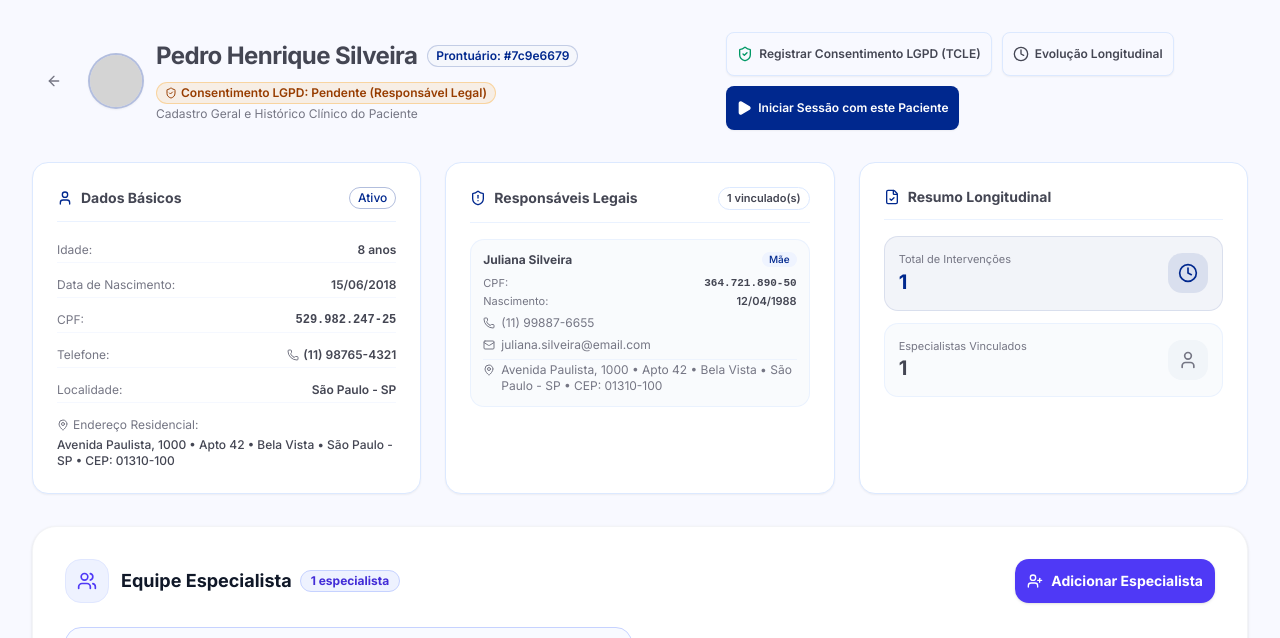
PerfilPacientePage — Gestão de Equipe Multidisciplinar (RF06, RF18, RN04) › 5. deve desabilitar o botão de desvincular quando restar apenas 1 especialista e bloquear início de sessão concorrente (409 Conflict)
Click the button "Iniciar Sessão com este Paciente" at (842, 108), box [726,86,958,130]
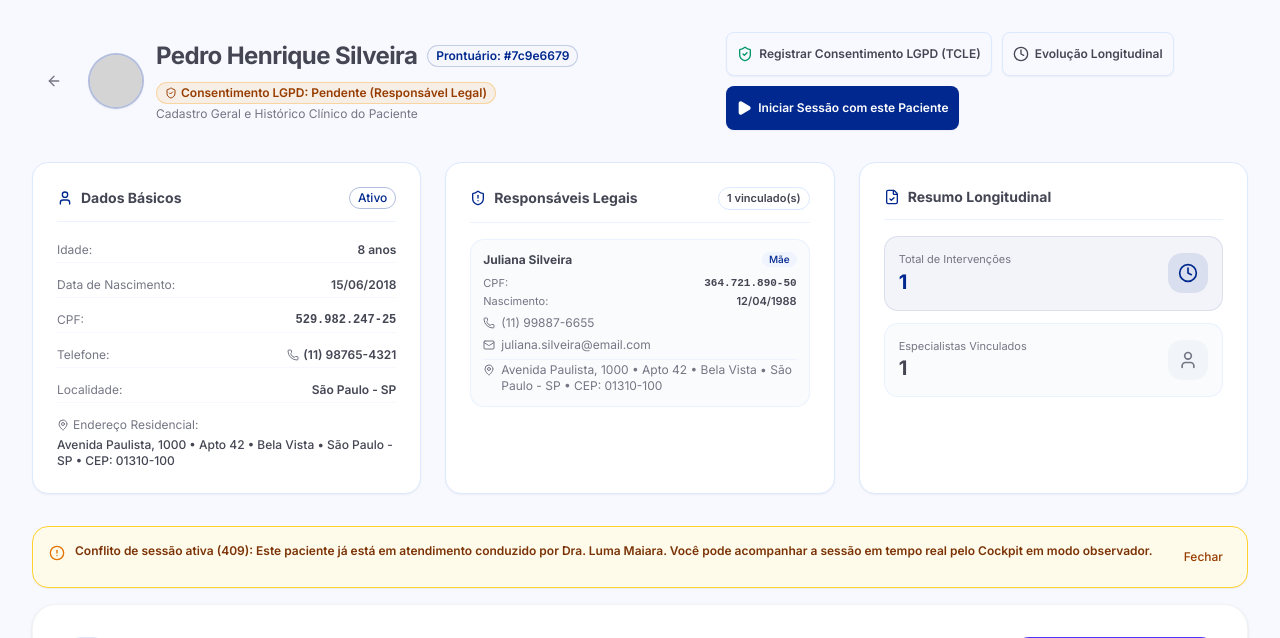
Expected: the message with test id "alerta-conflito-equipe" shows "Conflito de sessão ativa (409)", [75,543,1153,558]
Expected: the message with test id "alerta-conflito-equipe" shows "Dra. Luma Maiara", [75,543,1153,558]
